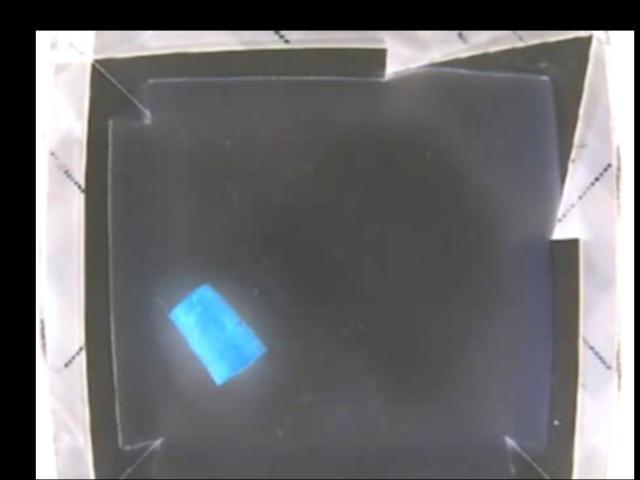Carrot: (169, 282, 268, 386)
